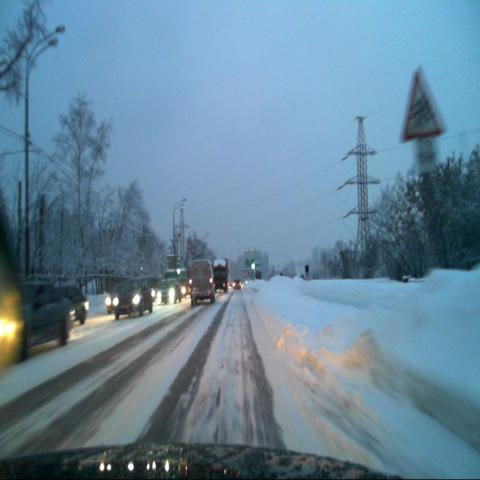1_23: (398, 71, 443, 138)
